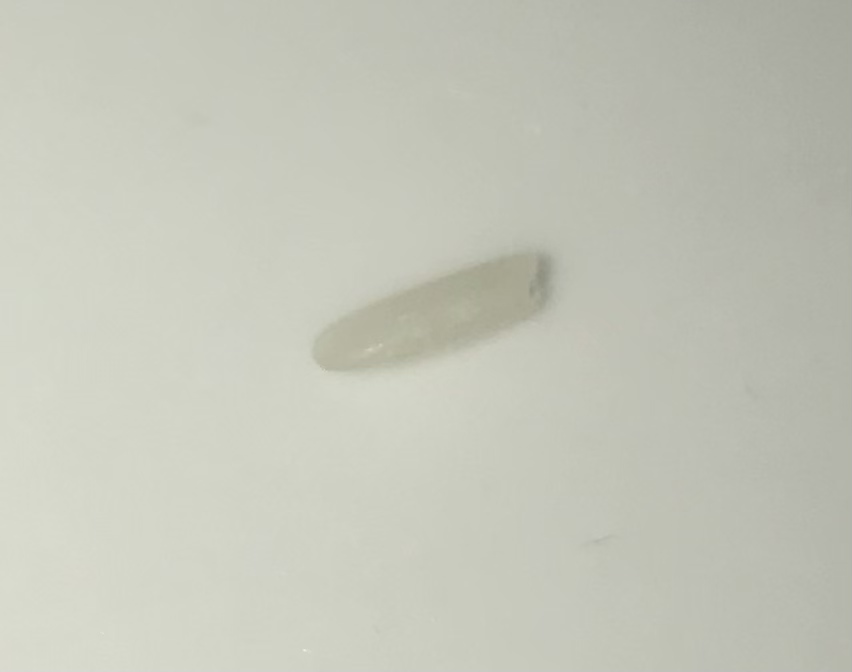Gao Thom Go Cong: (313, 258, 563, 381)
